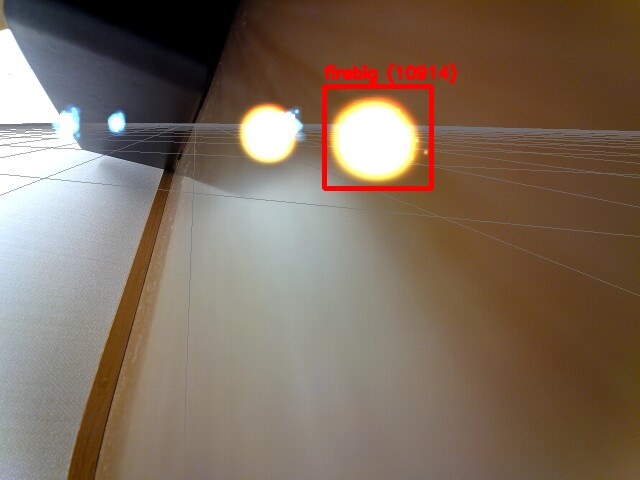firebig: (324, 86, 431, 188)
